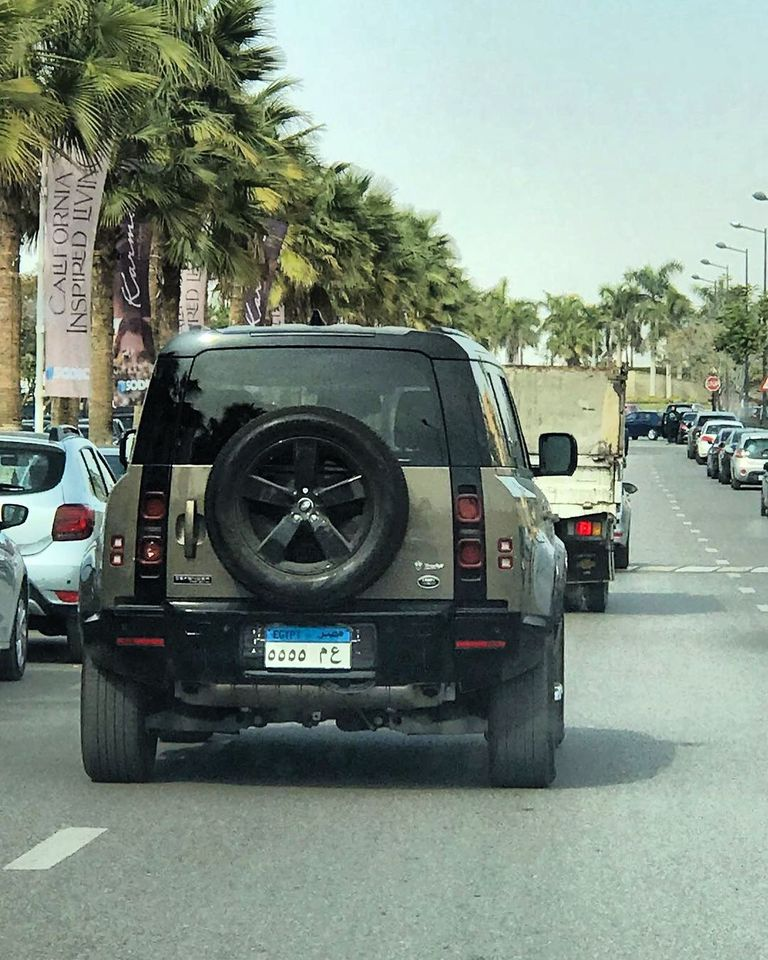carpl: (254, 638, 344, 669)
